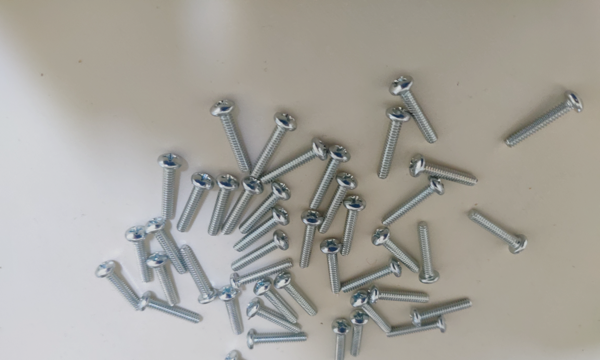longscrew: (502, 96, 581, 148), (389, 73, 442, 145), (248, 114, 295, 177), (382, 179, 445, 226), (370, 107, 410, 178), (304, 142, 347, 208), (469, 209, 528, 256), (233, 206, 289, 255), (264, 141, 326, 184), (213, 100, 251, 170), (236, 184, 289, 234), (232, 231, 294, 273), (315, 174, 353, 236), (221, 180, 263, 236), (99, 261, 140, 315), (232, 258, 297, 291), (410, 155, 481, 185), (148, 221, 186, 276), (174, 175, 211, 231), (341, 263, 398, 299), (140, 292, 200, 325), (372, 228, 417, 272), (408, 297, 473, 327), (180, 245, 214, 302), (255, 281, 299, 325), (247, 302, 305, 335), (155, 154, 184, 219), (127, 219, 153, 288), (350, 293, 397, 331), (276, 275, 320, 315), (148, 256, 183, 306), (295, 209, 322, 270), (339, 195, 365, 257), (388, 317, 447, 343), (210, 174, 234, 237), (417, 222, 438, 282), (248, 332, 309, 352), (370, 287, 433, 305), (345, 312, 369, 358), (329, 319, 350, 360), (223, 288, 240, 336), (327, 239, 341, 295), (227, 354, 271, 360)
